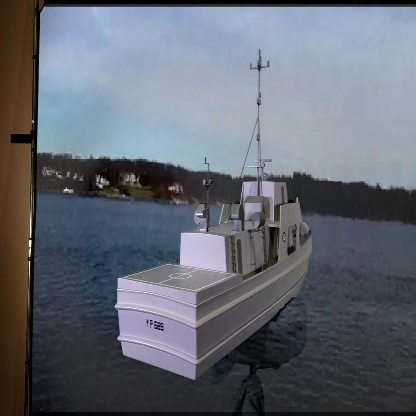YP689: (116, 49, 315, 382)
